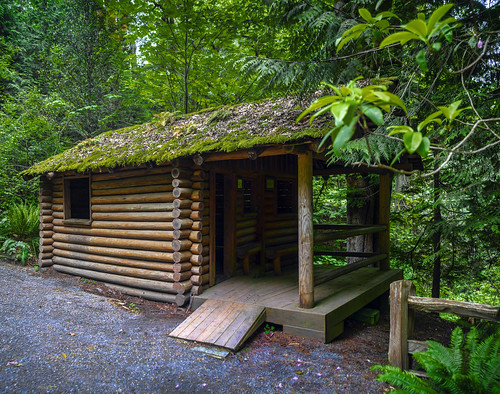building: (43, 115, 406, 336)
vegetation: (9, 1, 500, 137)
